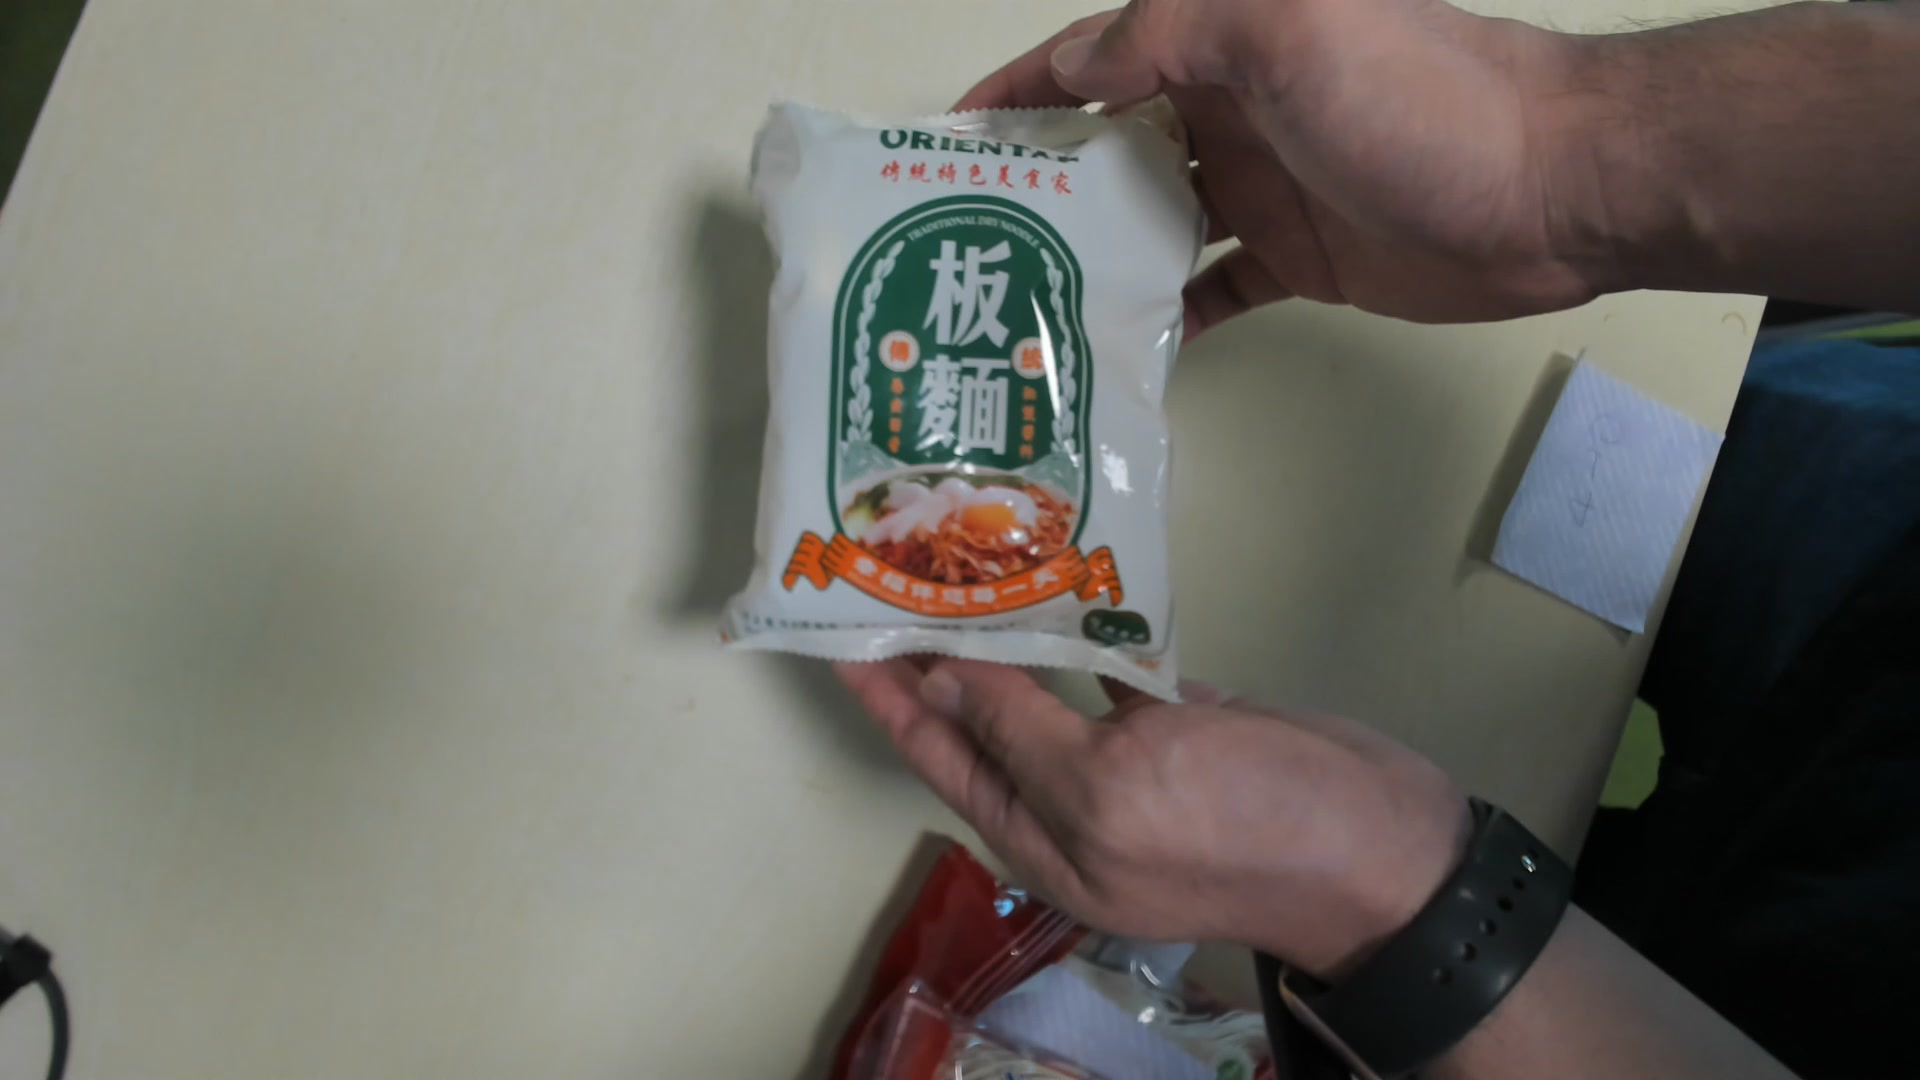BeeHoonVermicelli_100-199g_NonHalal_NonHealthy: (741, 109, 1189, 678)
